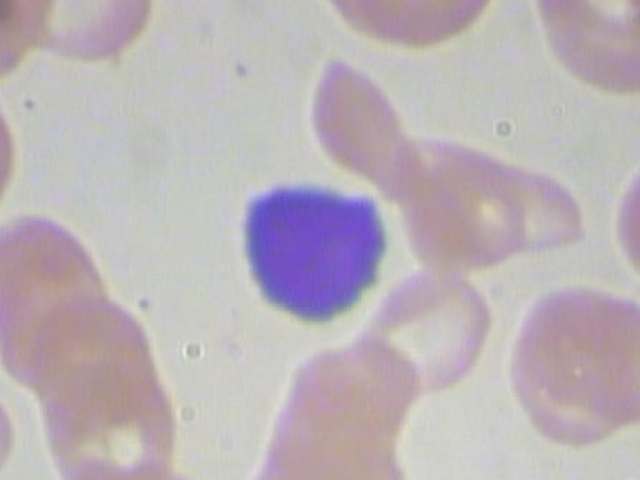RBC: (397, 135, 539, 271), (360, 263, 502, 399), (37, 357, 189, 480), (309, 49, 423, 205), (533, 287, 640, 433), (13, 0, 156, 78), (536, 0, 640, 93), (351, 0, 498, 57), (594, 142, 640, 288), (0, 0, 66, 88), (0, 83, 29, 247), (0, 363, 29, 480)
WBC: (224, 173, 403, 324)
